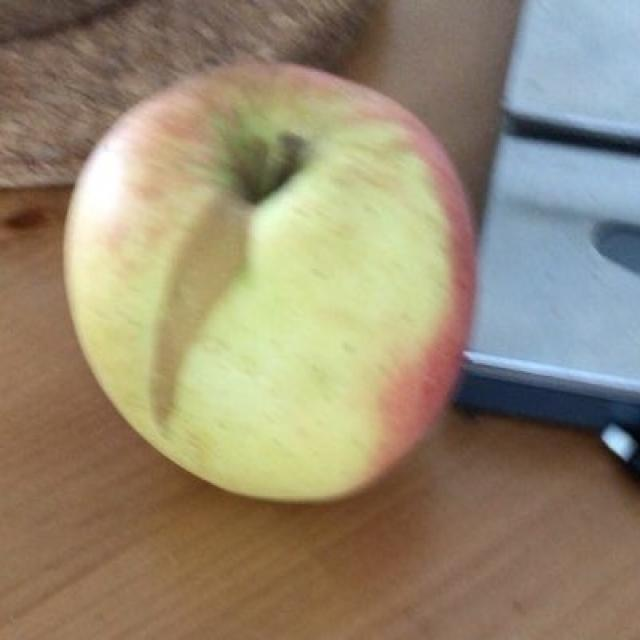apple: (73, 66, 467, 498)
